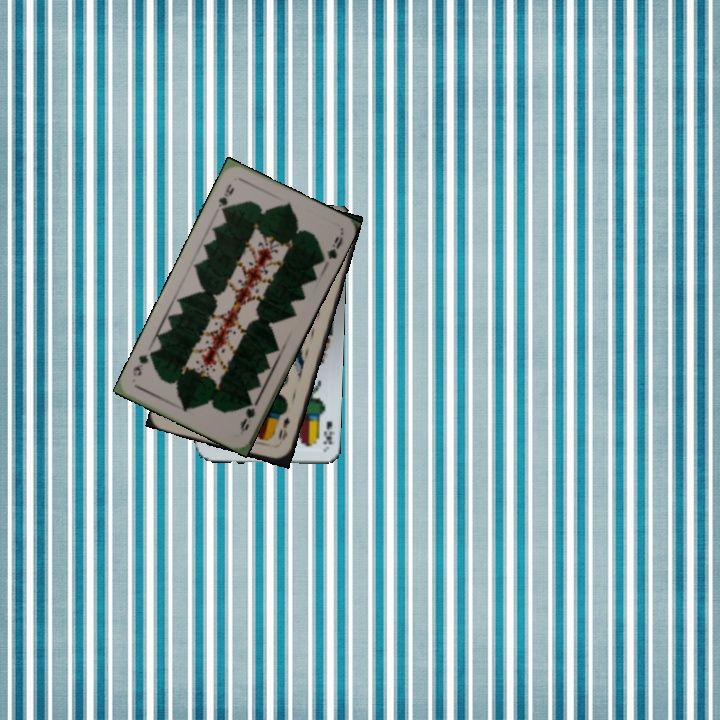EK: (319, 417, 336, 447)
EO: (274, 413, 292, 443)
G9: (236, 397, 260, 436), (214, 180, 237, 217)
